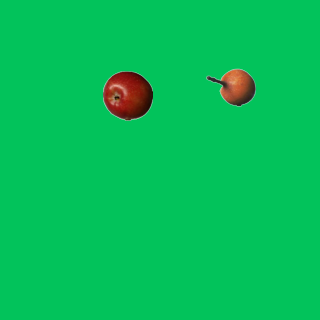Apple Braeburn: (102, 70, 152, 120)
Granadilla: (205, 62, 255, 112)
